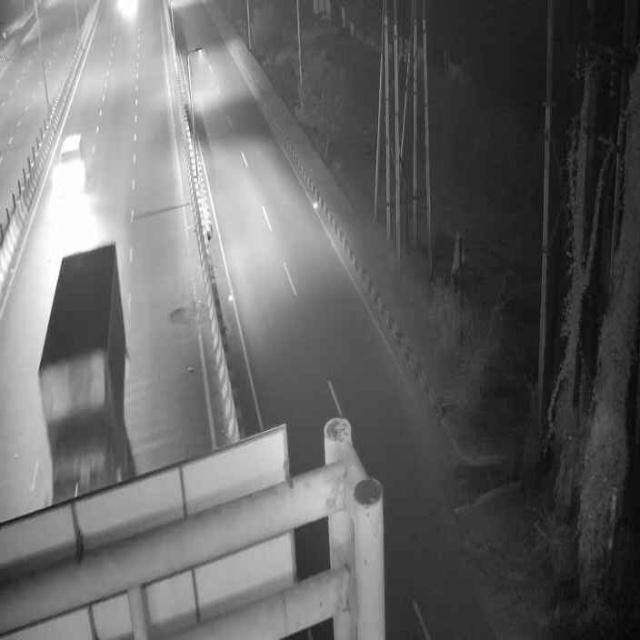car: (52, 130, 87, 194)
